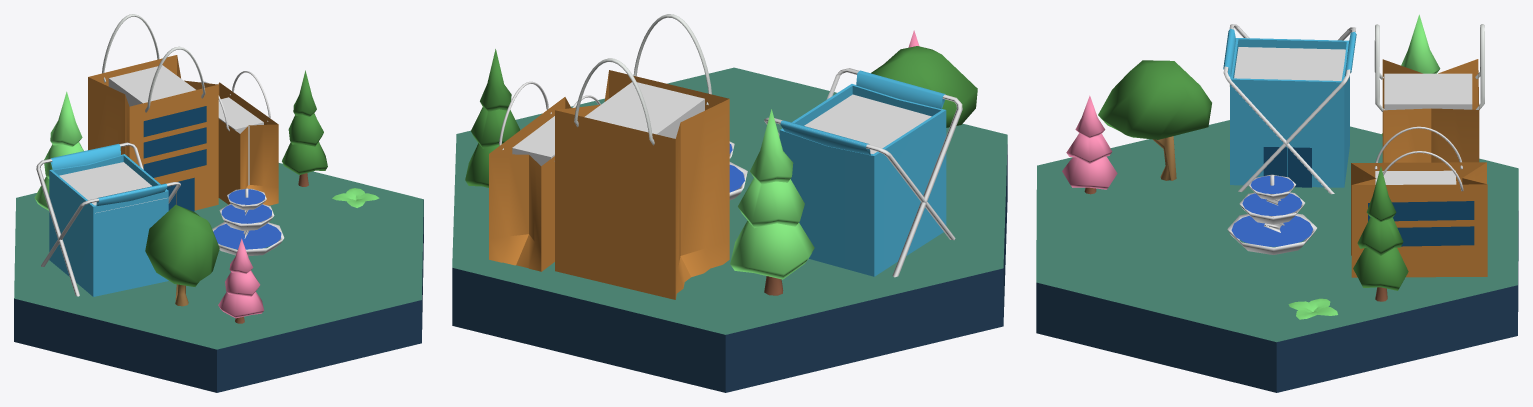
Rendered from Macro - Shop lvl 2.fbx.
The picture shows the model from 3 angles, left to right: view 1: azimuth 30°, elevation 25°; view 2: azimuth 150°, elevation 25°; view 3: azimuth 270°, elevation 25°; orthographic projection. The views are drawn at different scales.
Visible parts, largest first — view 1: Cylinder.179, bathroom_item_001.001, Circle.006, Circle.005, tree1 v:88 f:56, Cube.018, Tree_Spruce_tiny_01.007, Plane.122, Tree_Spruce_tiny_01.001, Cube.138, Tree_Spruce_tiny_01.005, Plane.003 (+5 smaller); view 2: Cylinder.179, Circle.006, bathroom_item_001.001, Circle.005, Tree_Spruce_tiny_01.005, Cube.138, Plane.122, tree1 v:88 f:56, Tree_Spruce_tiny_01.007, Cube.139, Cube.018; view 3: Cylinder.179, bathroom_item_001.001, Circle.005, tree1 v:88 f:56, Circle.006, Cube.018, Tree_Spruce_tiny_01.007, Plane.122, Cube.138, Tree_Spruce_tiny_01.001, Plane.004, Plane.006 (+5 smaller).
Boxes of the visible parts, x1,y1,x2,y2 form: Cylinder.179: (14, 163, 423, 392); bathroom_item_001.001: (36, 142, 180, 296); Circle.006: (88, 14, 218, 210); Circle.005: (200, 71, 278, 205); tree1 v:88 f:56: (145, 204, 219, 306); Cube.018: (212, 188, 284, 256); Tree_Spruce_tiny_01.007: (282, 70, 327, 186); Plane.122: (59, 162, 166, 213); Tree_Spruce_tiny_01.001: (218, 238, 264, 323); Cube.138: (108, 65, 195, 106); Tree_Spruce_tiny_01.005: (34, 91, 83, 210); Plane.003: (143, 127, 206, 158); Cylinder.179: (452, 67, 1007, 392); Circle.006: (555, 14, 729, 299); bathroom_item_001.001: (764, 68, 962, 277); Circle.005: (489, 81, 600, 271); Tree_Spruce_tiny_01.005: (730, 109, 814, 295); Cube.138: (584, 82, 704, 138); Plane.122: (804, 94, 931, 153); tree1 v:88 f:56: (871, 46, 977, 127); Tree_Spruce_tiny_01.007: (465, 49, 520, 187); Cube.139: (512, 116, 554, 165); Cube.018: (729, 141, 747, 200); Cylinder.179: (1036, 120, 1518, 392); bathroom_item_001.001: (1223, 24, 1356, 194); Circle.005: (1351, 126, 1487, 277); tree1 v:88 f:56: (1098, 60, 1211, 180); Circle.006: (1374, 24, 1484, 162); Cube.018: (1227, 174, 1316, 254); Tree_Spruce_tiny_01.007: (1353, 166, 1408, 301); Plane.122: (1229, 47, 1345, 86); Cube.138: (1384, 73, 1472, 110); Tree_Spruce_tiny_01.001: (1062, 95, 1117, 194); Plane.004: (1368, 201, 1474, 221); Plane.006: (1397, 226, 1474, 246).
Size of the model in its own units: 197 by 98.68 by 172.
